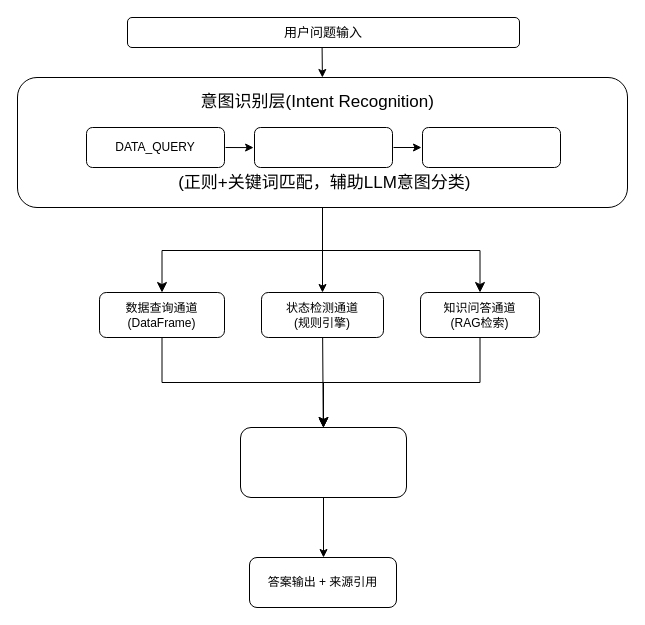
Image size: 645x625. Some labels were removed from this diagram. The centre of each missing label's shape, as x and y in pixels:
KNOWLEDGE_Q&A: (491,147)
STATUS_CHECK: (323,147)
答案生成层 (LLM) D eepSeek + 上下文填充: (323,462)
